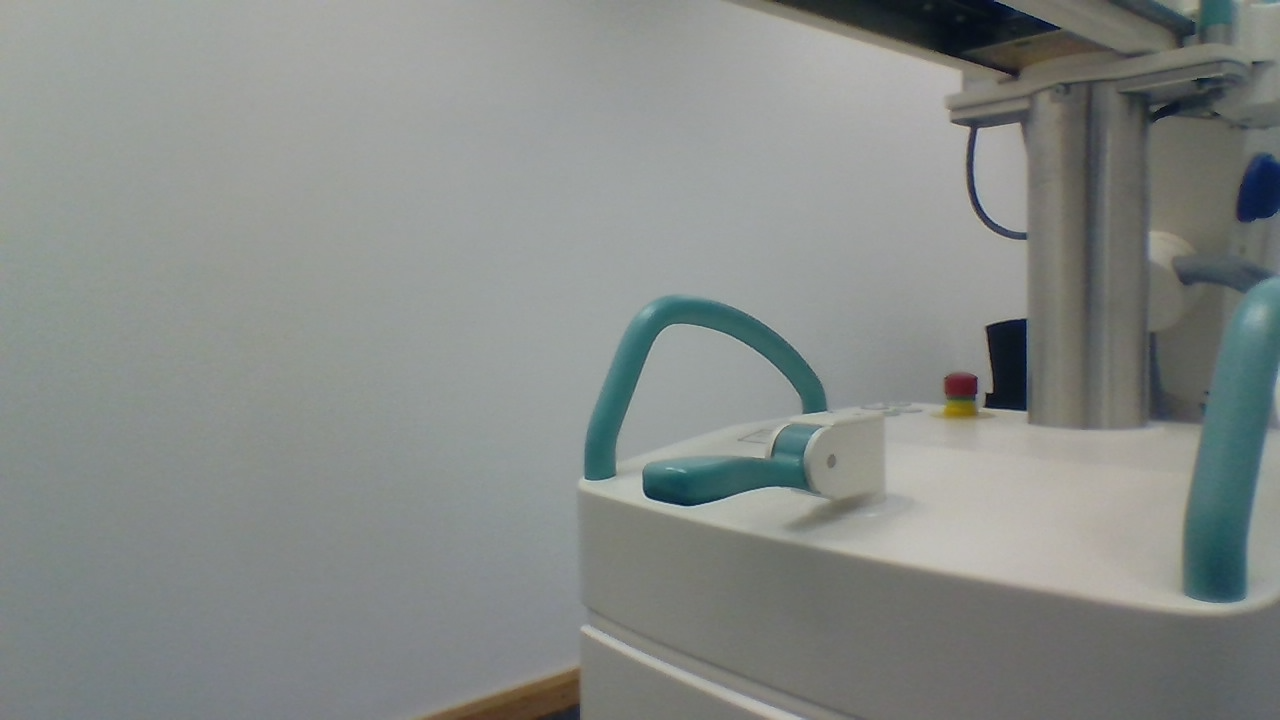carmBACK: (641, 408, 886, 509)
